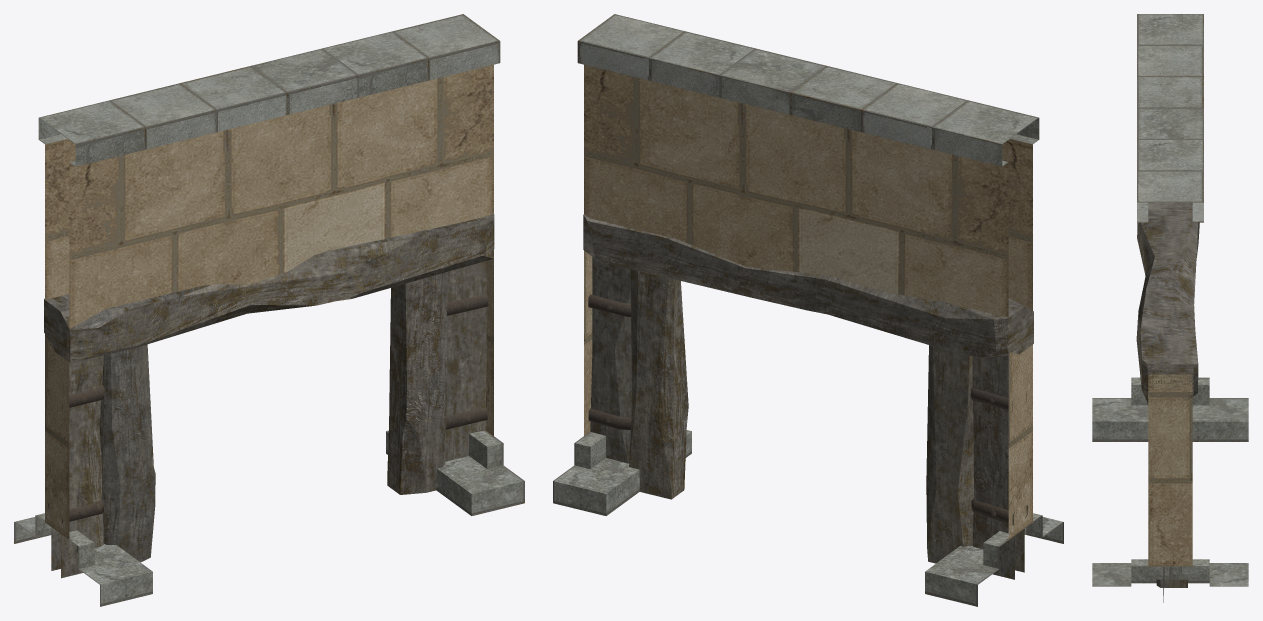
File: arch_sqr_2U.fbx
The picture shows the model from 3 angles, left to right: view 1: azimuth 30°, elevation 25°; view 2: azimuth 150°, elevation 25°; view 3: azimuth 270°, elevation 25°; orthographic projection. The views are drawn at different scales.
Visible parts, largest first — view 1: arch_sqr_2U; view 2: arch_sqr_2U; view 3: arch_sqr_2U.
Boxes of the visible parts, <box> form: arch_sqr_2U: <box>14,14,524,606</box>; arch_sqr_2U: <box>553,14,1063,606</box>; arch_sqr_2U: <box>1092,14,1248,602</box>.
Bounding box in the file's own units: 201 × 201 × 70.
